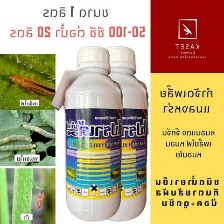insecticide: (61, 43, 124, 224), (86, 43, 149, 224)
